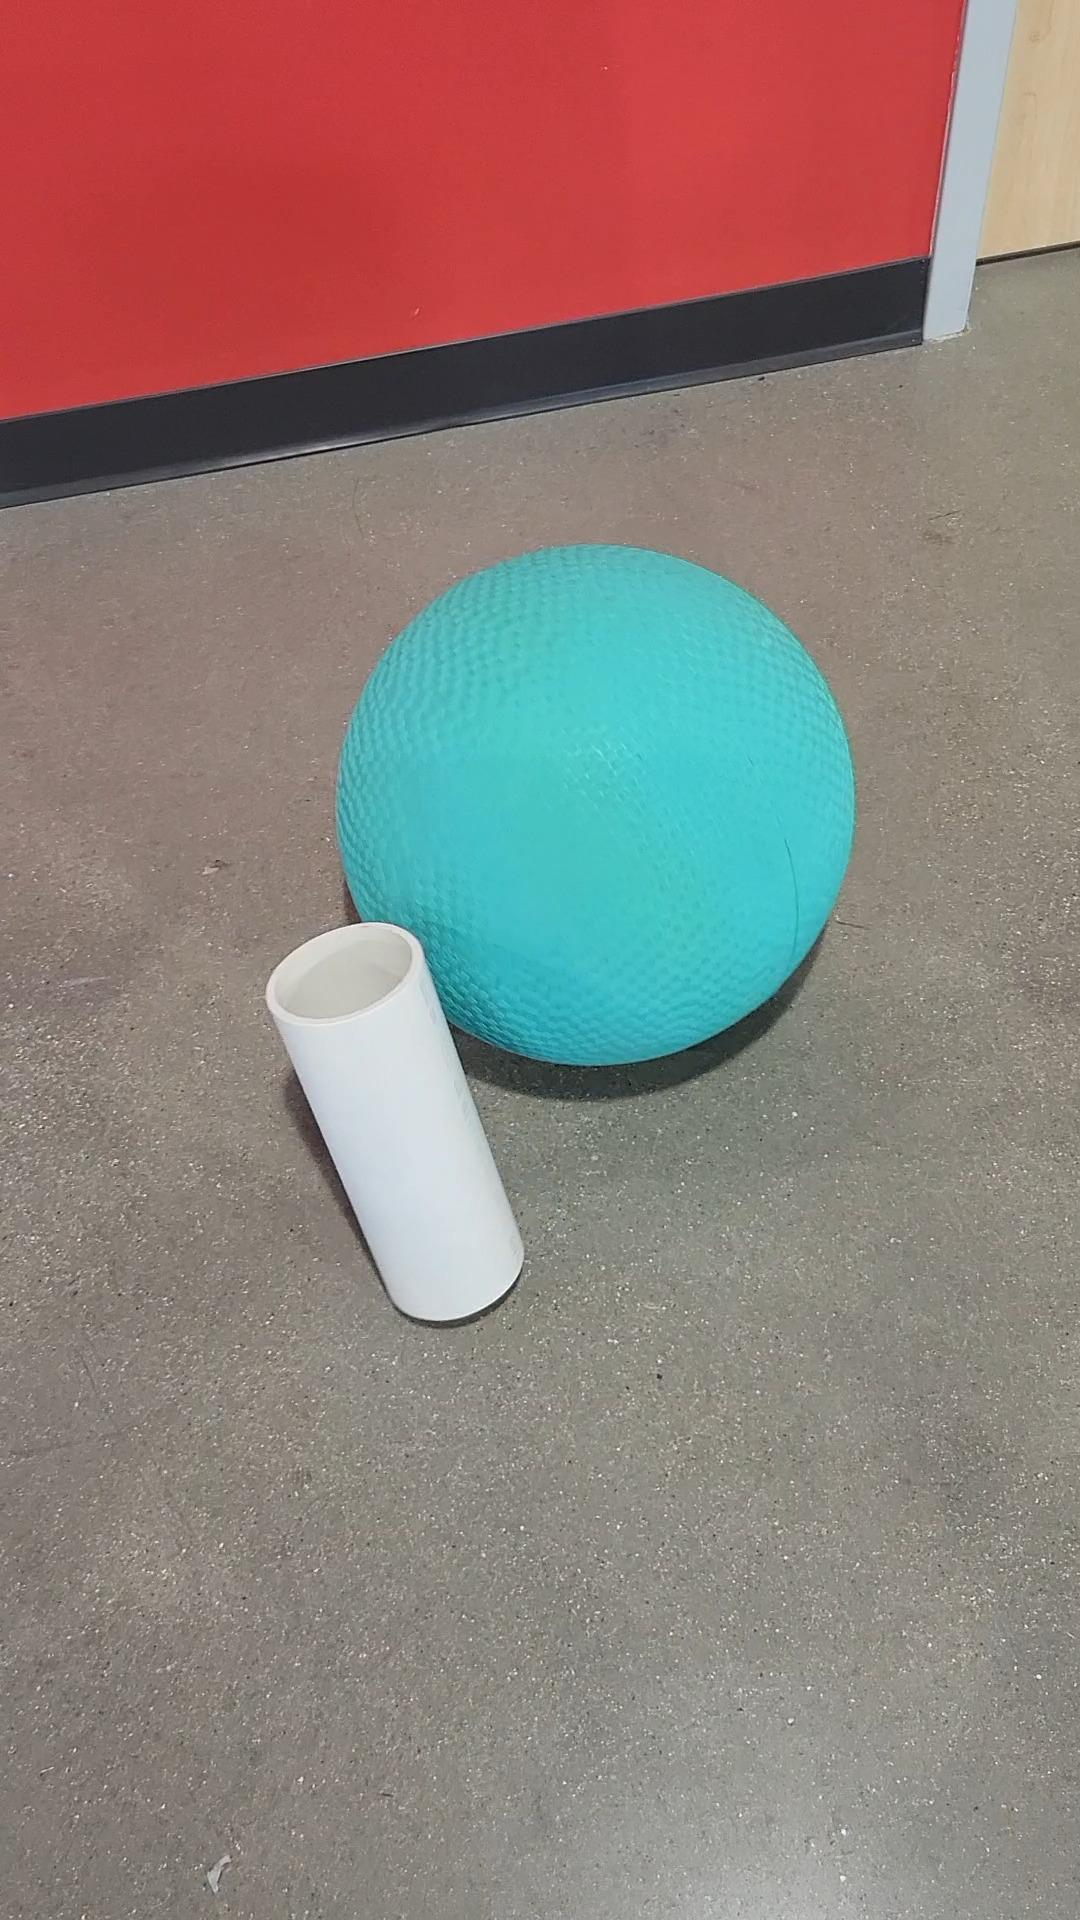algae: (339, 542, 862, 1073)
coral: (261, 916, 527, 1325)
